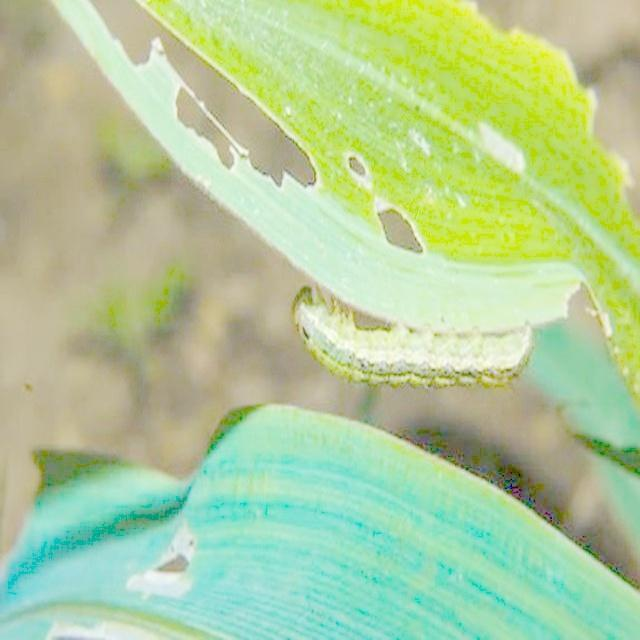gusano_cogollero: (282, 275, 534, 389)
